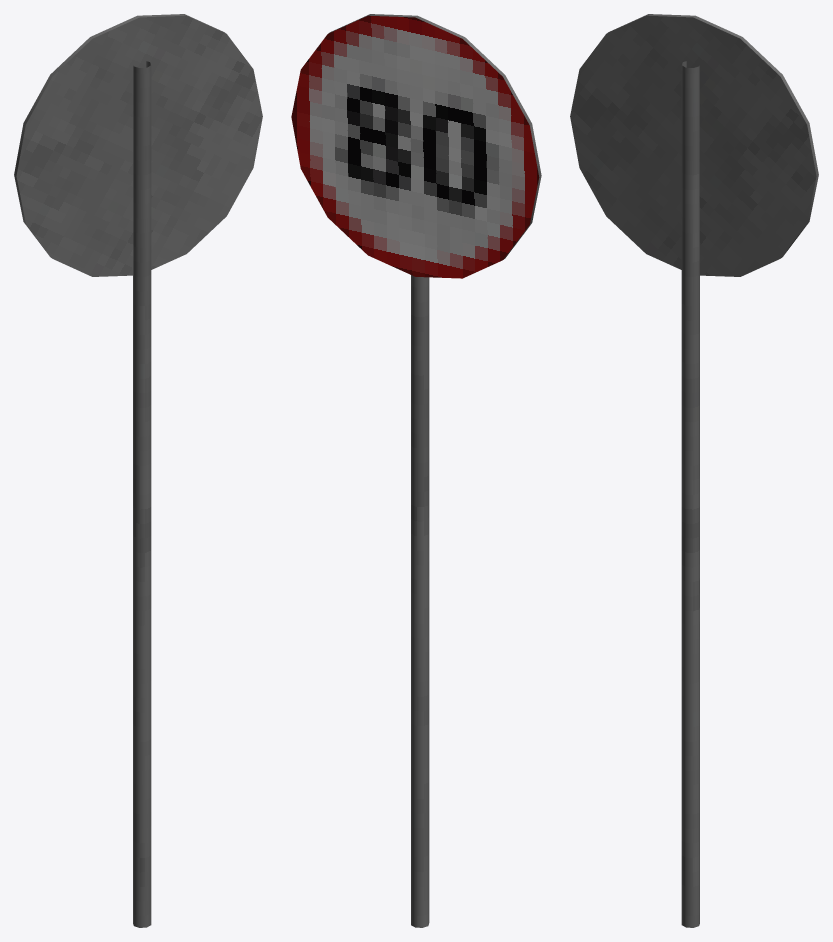
Rendered from road_sign_stop.glb.
3 views of the same model, side by side, from view 1: azimuth 30°, elevation 25°; view 2: azimuth 150°, elevation 25°; view 3: azimuth 330°, elevation 25° (orthographic).
Parts seen in each view (by area): view 1: Sign_04.001; view 2: Sign_04.001; view 3: Sign_04.001.
Part boxes in pixels (<box>): Sign_04.001: <box>14,14,262,927</box>; Sign_04.001: <box>291,14,541,927</box>; Sign_04.001: <box>570,14,818,927</box>.
Size of the model in its own units: 0.6 by 2.11 by 0.04.
Materials: 1 (1 with a texture image).
